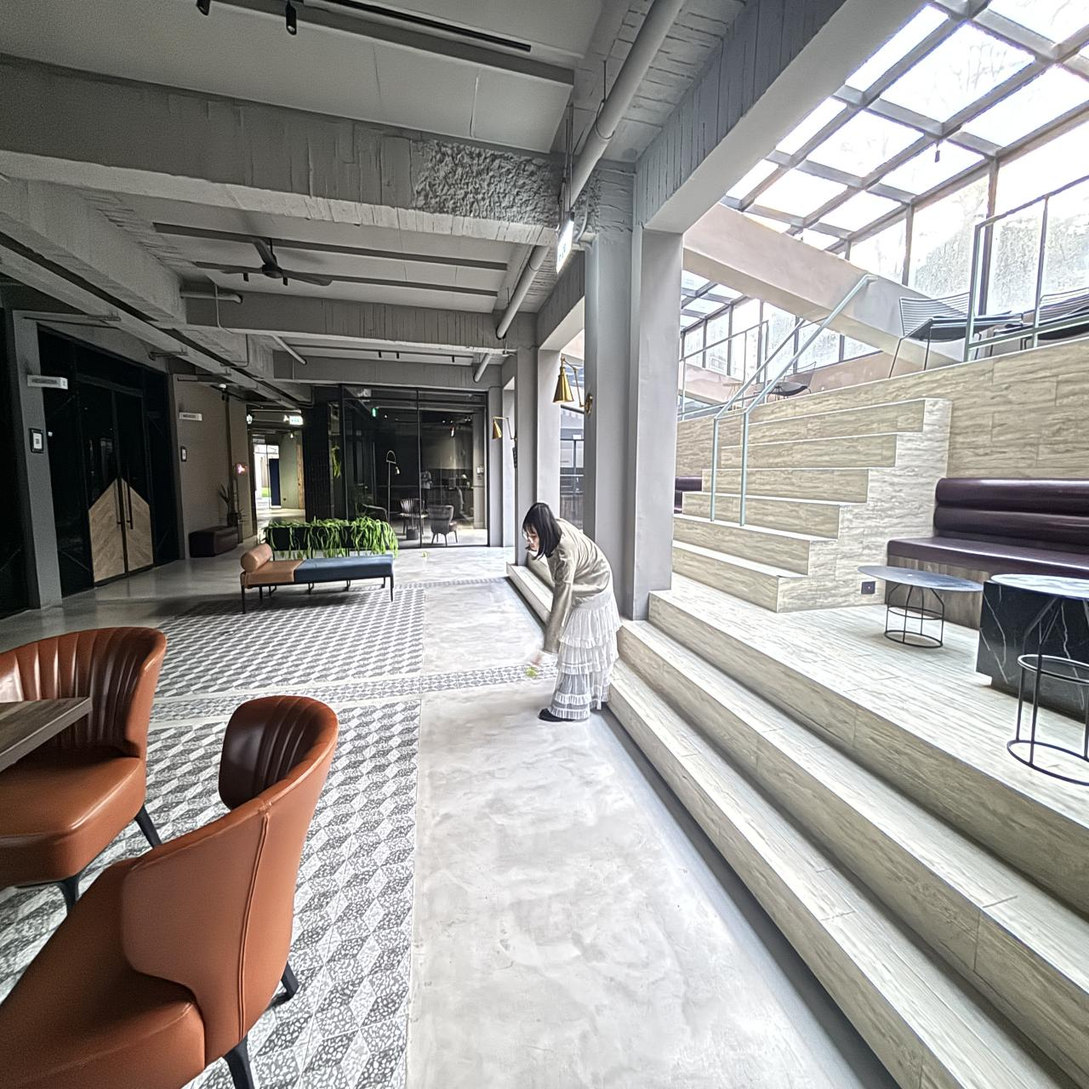person: (522, 503, 620, 721)
